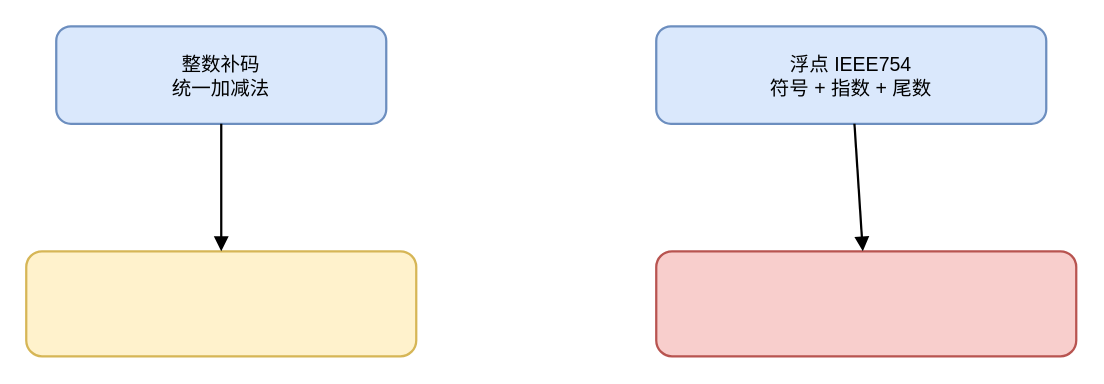
Some shapes in this 1104 by 384 pixel diagram are drawn without their labels. Each missing label, with the centre of its shape:
"0.1 等十进制小数 无法总是精确二进制表示" goes at (865,303).
"n 位范围 -2^(n-1) 到 2^(n-1)-1" goes at (220,303).
